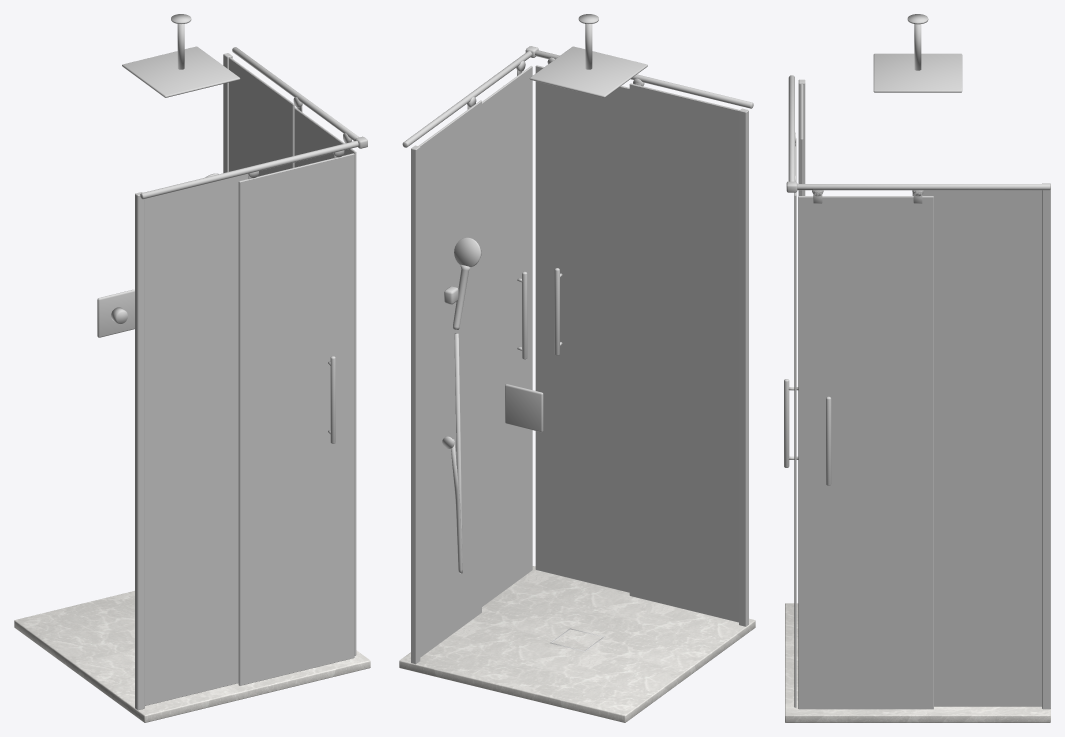
The model's file is ducha_angular_90x90_techo.glb.
The picture shows the model from 3 angles, left to right: view 1: azimuth 30°, elevation 25°; view 2: azimuth 150°, elevation 25°; view 3: azimuth 270°, elevation 25°; orthographic projection.
Parts seen in each view (by area): view 1: ducha_angular_90x90_techo; view 2: ducha_angular_90x90_techo; view 3: ducha_angular_90x90_techo.
Boxes of the visible parts, x1=… form: ducha_angular_90x90_techo: x1=14, y1=14, x2=370, y2=722; ducha_angular_90x90_techo: x1=399, y1=14, x2=755, y2=722; ducha_angular_90x90_techo: x1=784, y1=14, x2=1050, y2=722.
Size of the model in its own units: 0.903 by 2.4 by 0.9027.
Materials: 3 (1 with a texture image).
